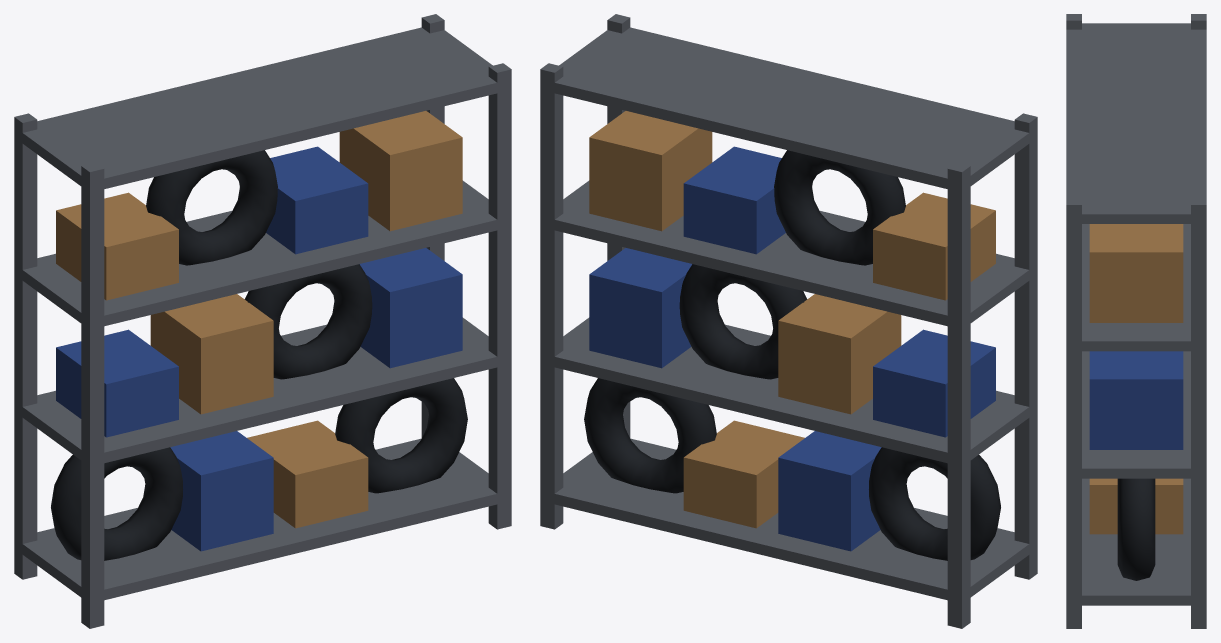
Rendered from parts-shelf.glb.
3 renders of one model, left to right at view 1: azimuth 30°, elevation 25°; view 2: azimuth 150°, elevation 25°; view 3: azimuth 270°, elevation 25°, orthographic. The views are drawn at different scales.
Parts seen in each view (by area): view 1: part-shelving, part-partbox-2, part-partbox-1, part-tyre; view 2: part-shelving, part-partbox-2, part-partbox-1, part-tyre; view 3: part-shelving, part-partbox-2, part-partbox-1, part-tyre.
Part boxes in pixels (x1,y1,x2,y2): part-shelving: (14,14,511,628); part-partbox-2: (56,111,462,528); part-partbox-1: (56,146,462,551); part-tyre: (51,150,467,560); part-shelving: (540,14,1037,628); part-partbox-2: (589,111,995,528); part-partbox-1: (589,146,995,551); part-tyre: (584,150,1000,560); part-shelving: (1066,14,1206,628); part-partbox-2: (1089,224,1183,534); part-partbox-1: (1089,351,1183,449); part-tyre: (1117,478,1155,580).
Size of the model in its own units: 58 by 60 by 18.
